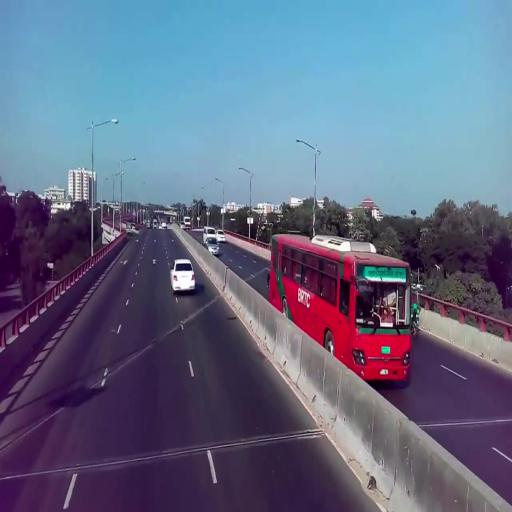bus: (267, 226, 414, 387)
car: (169, 258, 198, 296), (205, 237, 221, 259), (216, 230, 227, 244)
